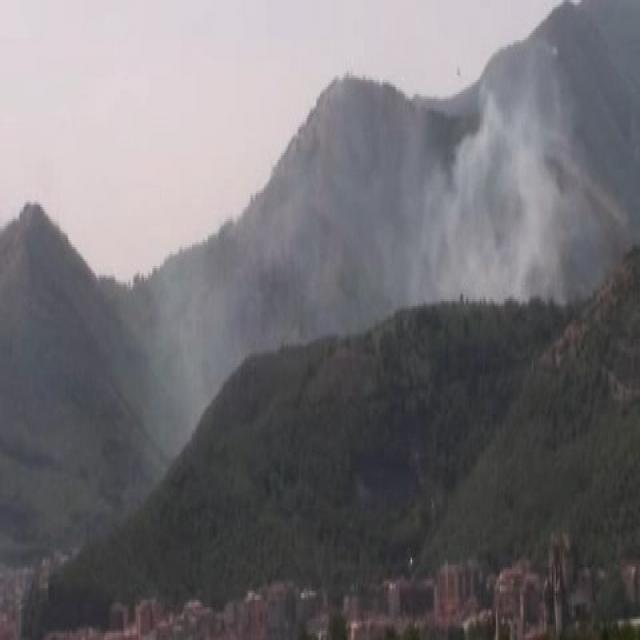smoke: (397, 98, 564, 307)
